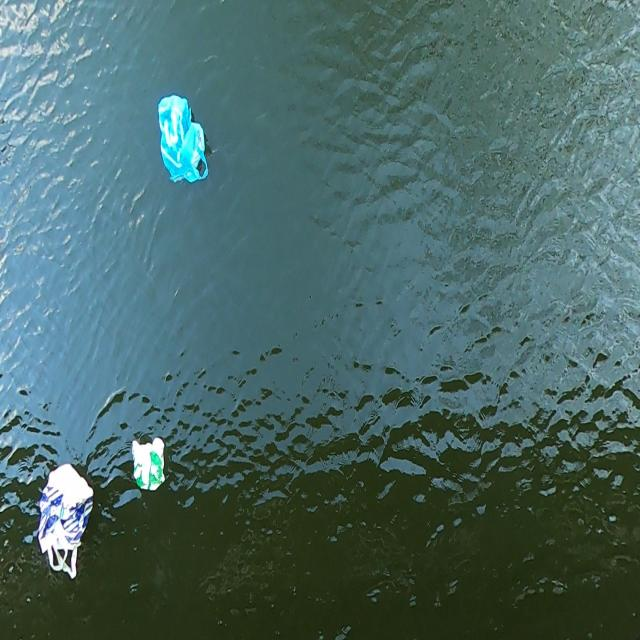Sac plastique: (34, 457, 99, 584), (154, 90, 216, 189), (130, 434, 169, 496)
